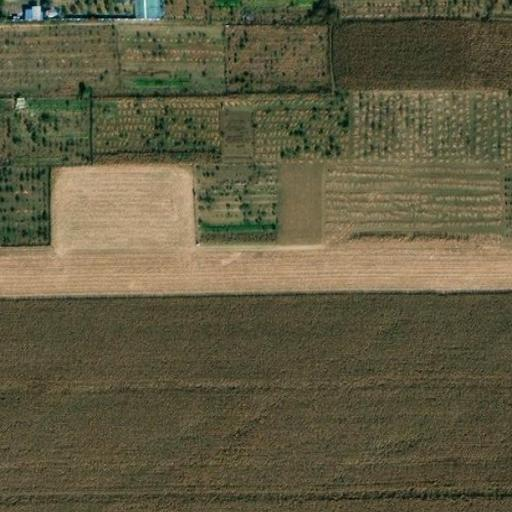building: (20, 3, 43, 22)
